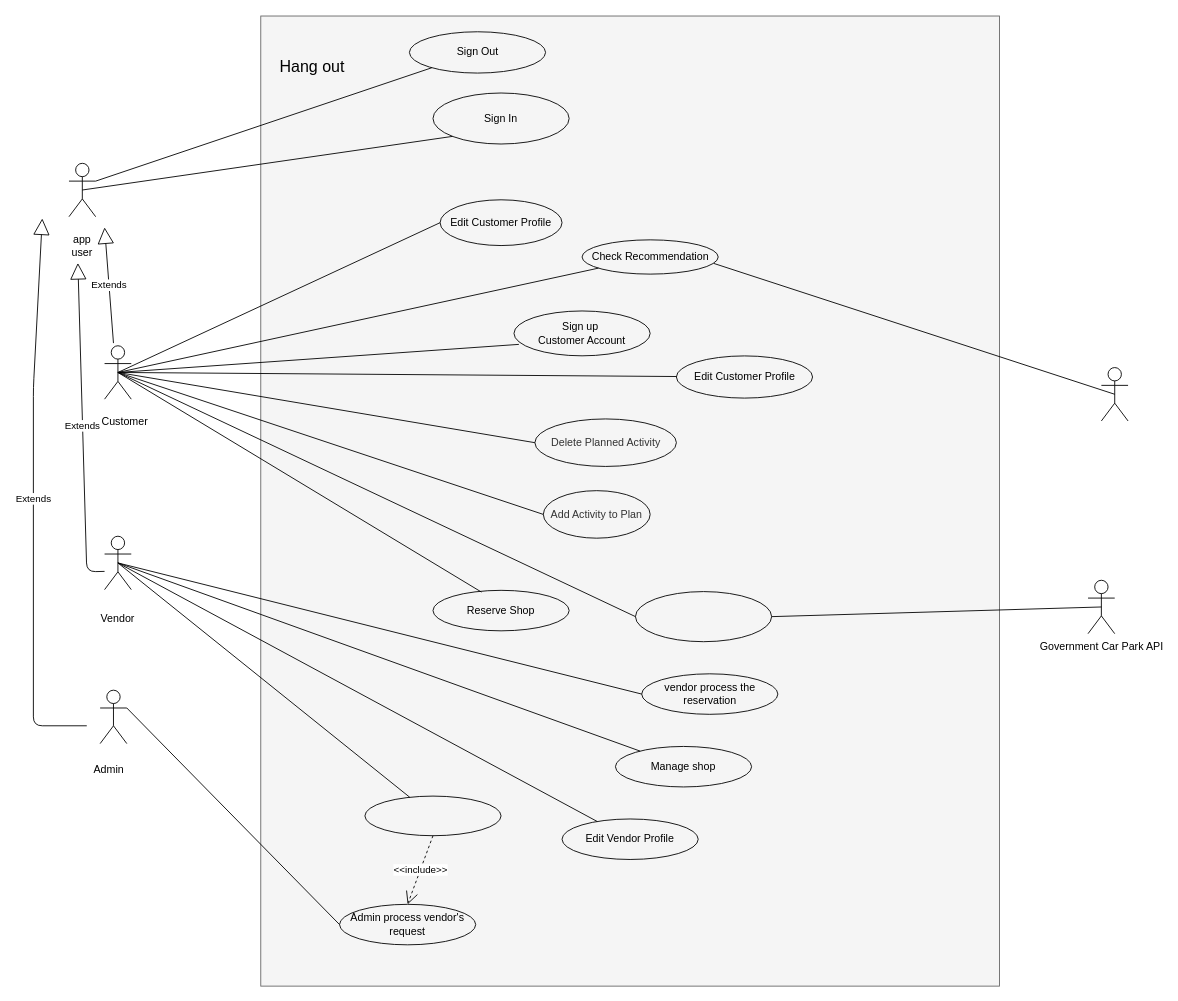
This 1178x1001 diagram has some shape labels left out. The shapes that lost their labels are listed below. From the top down, each one's centre as x and y in pixels, then its label:
the point at 1114,394: Google Map API
the point at 703,616: Check Car Park Availability
the point at 432,815: register vendor account
